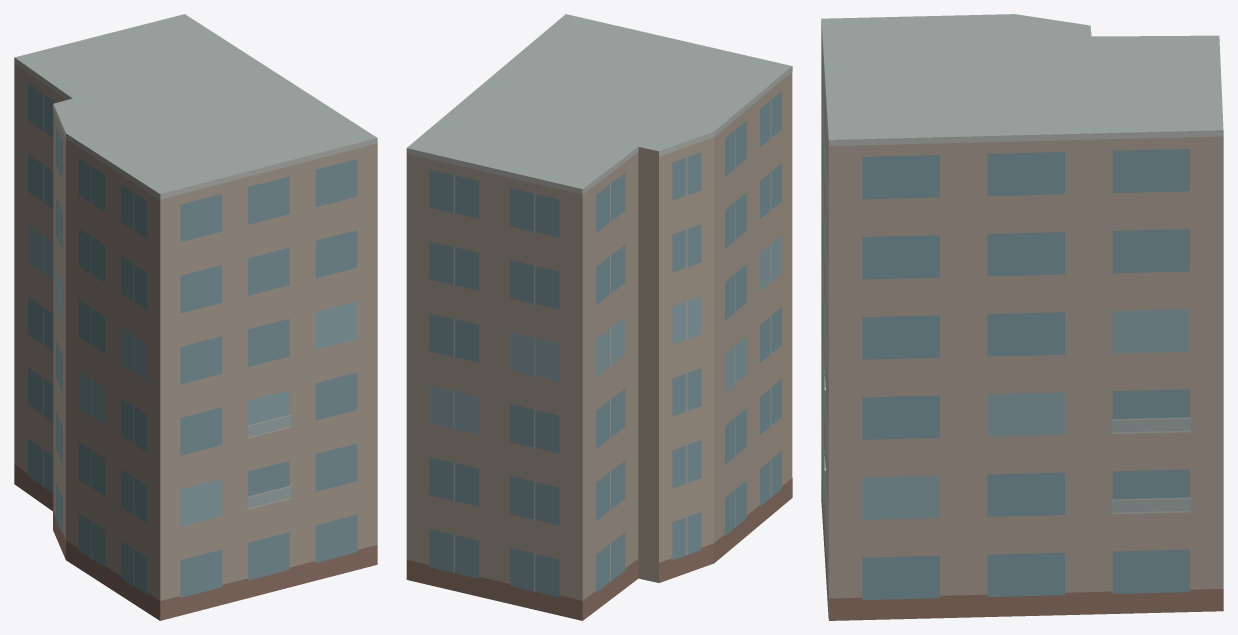
Rendered from survey-upis-32878346.glb.
The picture shows the model from 3 angles, left to right: view 1: azimuth 30°, elevation 25°; view 2: azimuth 150°, elevation 25°; view 3: azimuth 270°, elevation 25°; orthographic projection. The views are drawn at different scales.
Visible parts, largest first — view 1: survey-upis-32878346.tmp; view 2: survey-upis-32878346.tmp; view 3: survey-upis-32878346.tmp.
Part boxes in pixels (box(x1,y1,x2,y2)): survey-upis-32878346.tmp: box(14, 14, 377, 620); survey-upis-32878346.tmp: box(406, 14, 792, 620); survey-upis-32878346.tmp: box(821, 14, 1223, 620).
Size of the model in its own units: 10.74 by 19.1 by 14.48.
